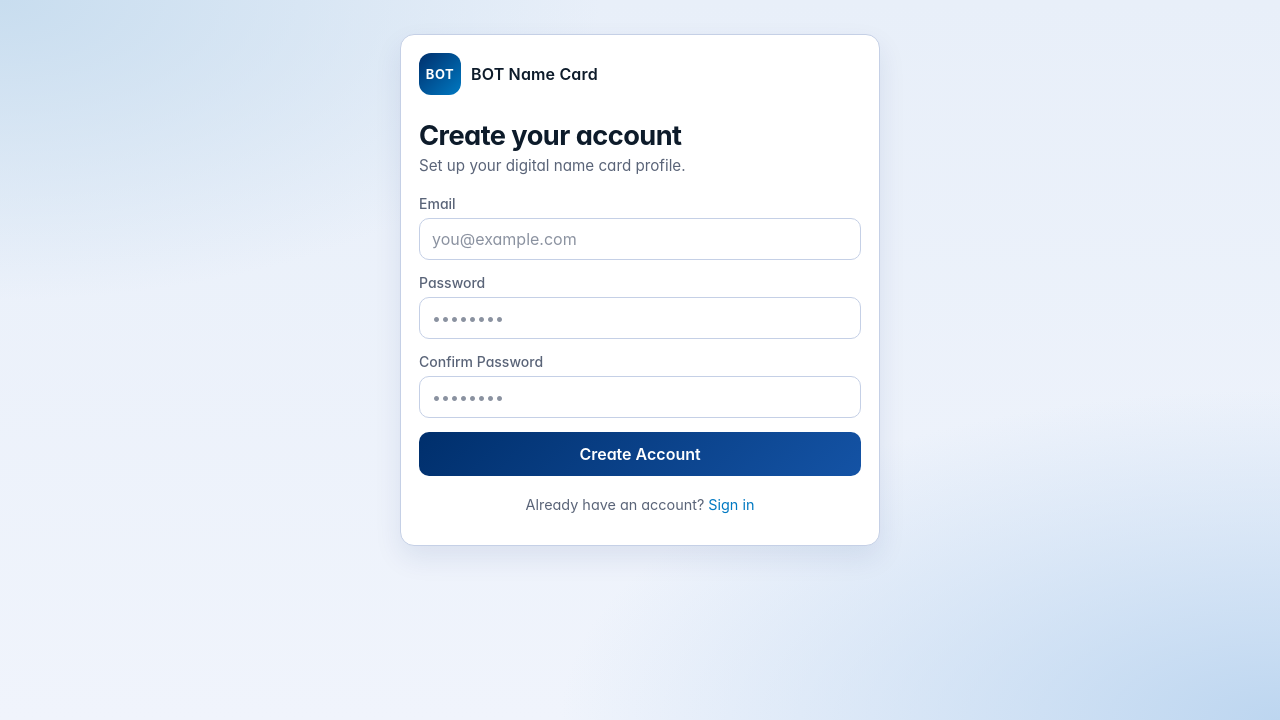
Test case: RegisterPage › shows readable error for password too short
Type "a@b.com" into the field labelled "Email" at (640, 239), box [419,218,861,260]
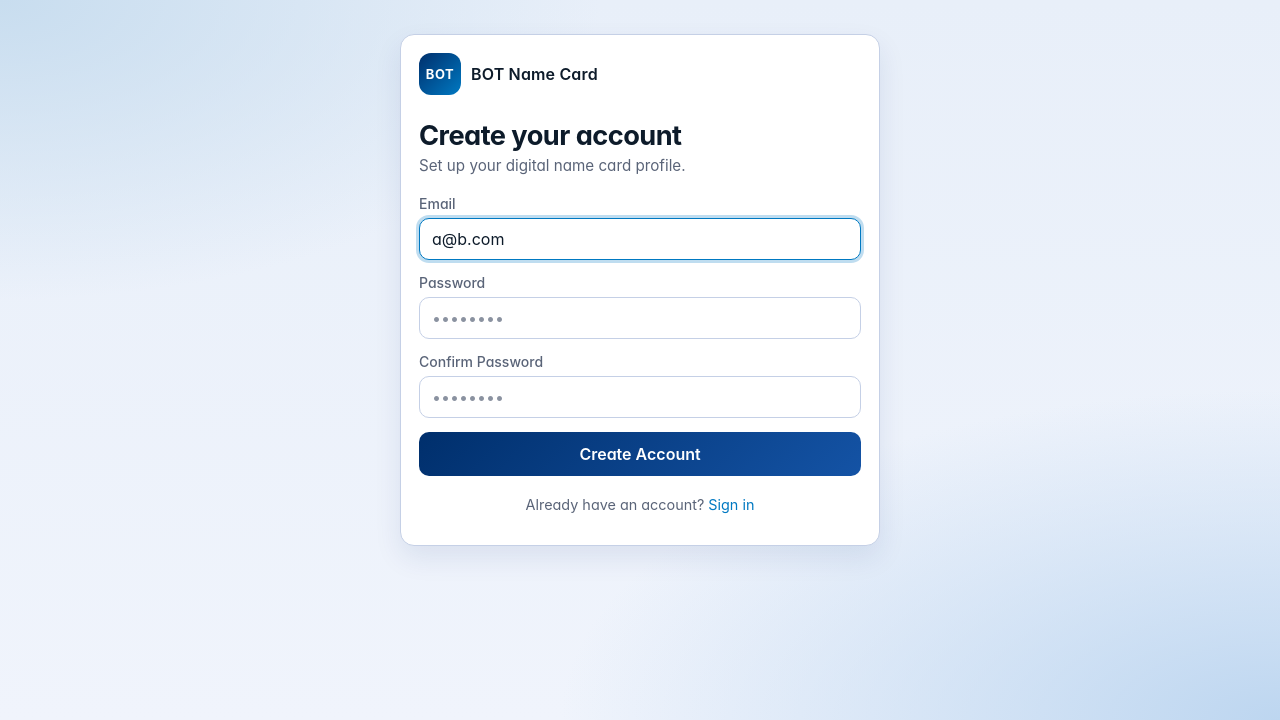
Type "short123" into the password field labelled "Password" at (640, 318), box [419,297,861,339]
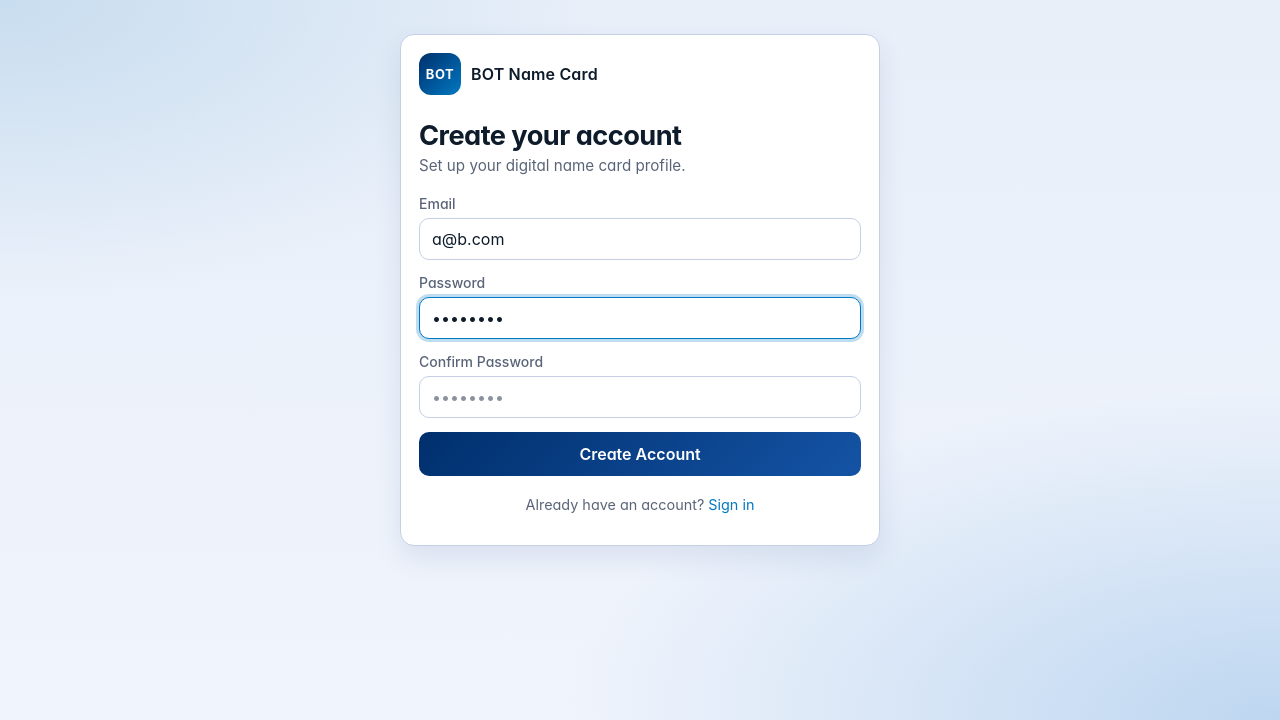
Type "short123" into the password field labelled "Confirm Password" at (640, 397), box [419,376,861,418]
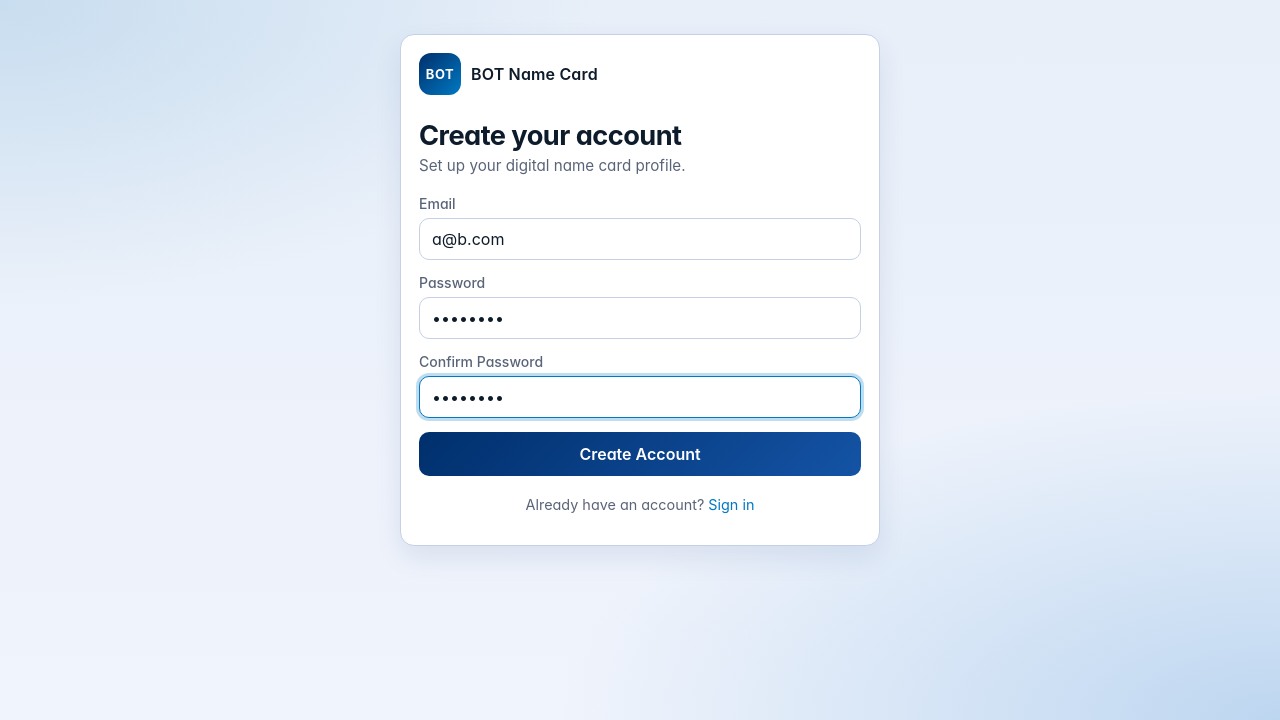
Click the button "Create Account" at (640, 454), box [419,432,861,476]
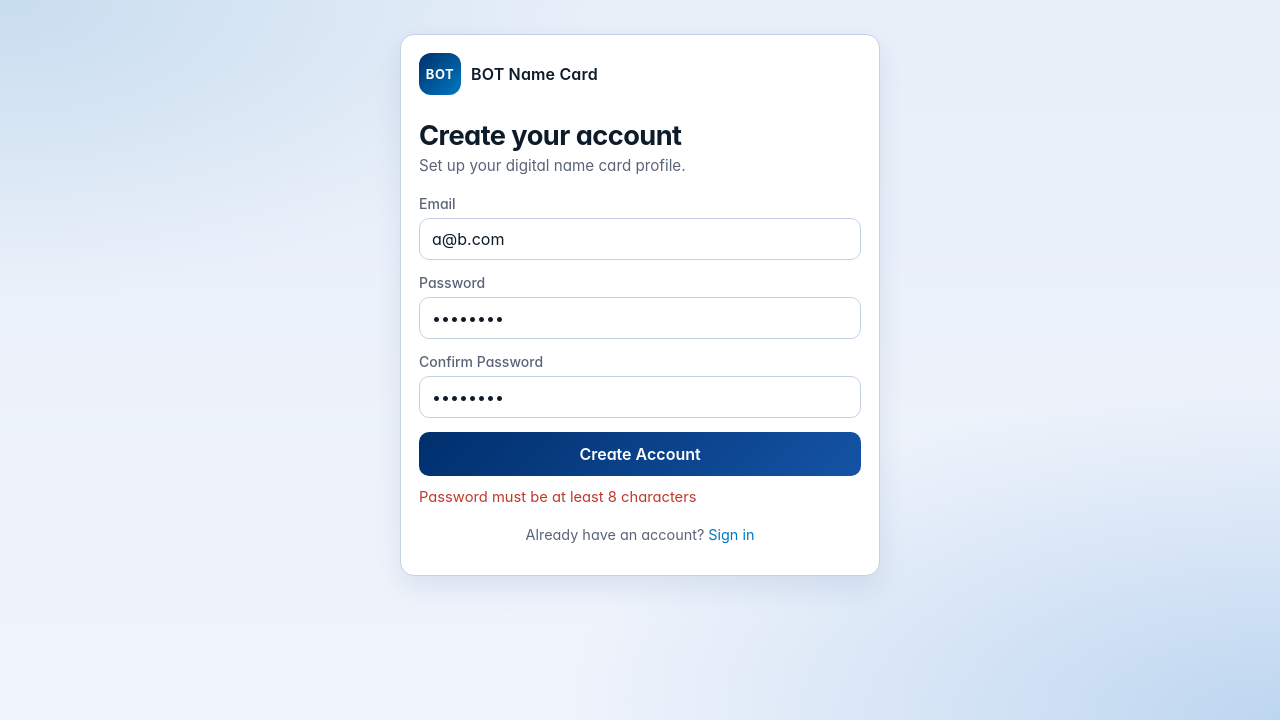
expect the text "Password must be at least 8 characters" is shown: met, box [419,488,696,506]
